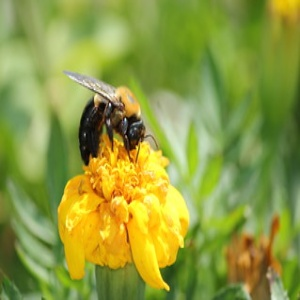bee: (63, 68, 148, 161)
